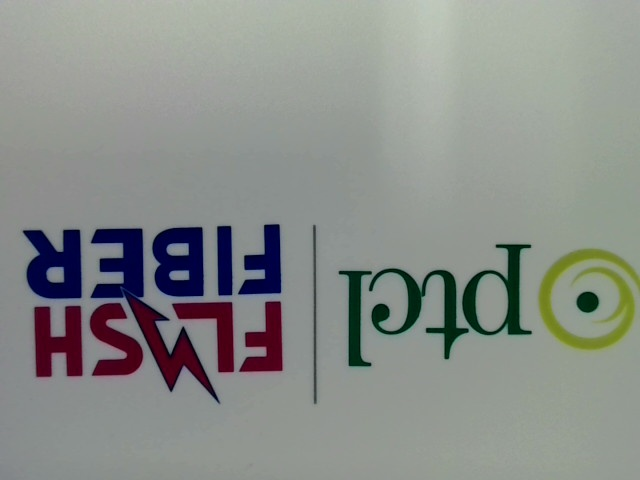BF_PTCL: (329, 240, 639, 370)
